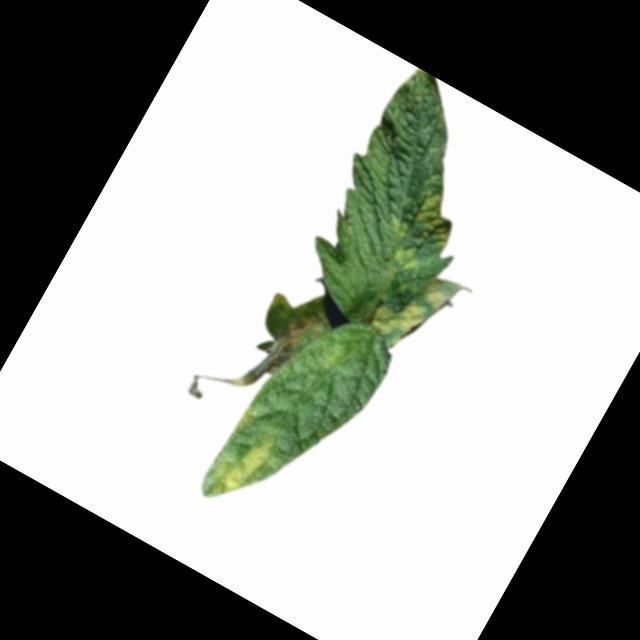Leaf_Mold: (369, 173, 470, 284), (194, 406, 291, 518), (359, 258, 454, 363), (258, 292, 331, 384)
